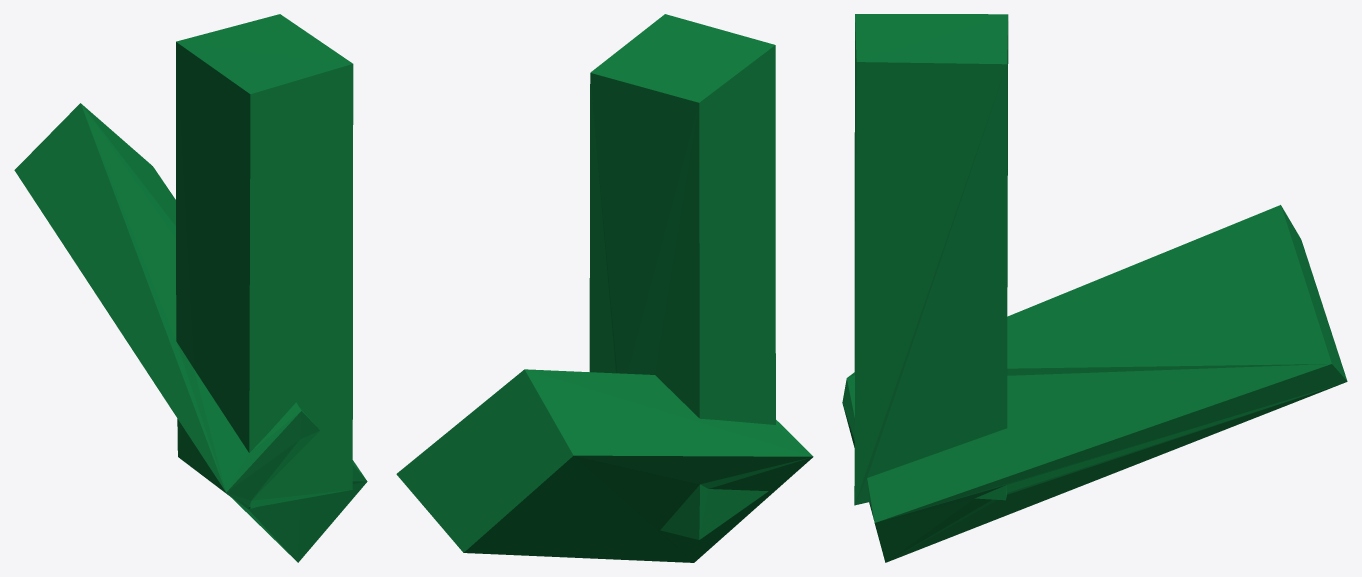
The picture shows the model from 3 angles, left to right: view 1: azimuth 30°, elevation 25°; view 2: azimuth 150°, elevation 25°; view 3: azimuth 270°, elevation 25°; orthographic projection. The views are drawn at different scales.
Visible parts, largest first — view 1: 223_Cube.916; view 2: 223_Cube.916; view 3: 223_Cube.916.
Part boxes in pixels (<box>): 223_Cube.916: <box>14,14,367,562</box>; 223_Cube.916: <box>396,14,813,562</box>; 223_Cube.916: <box>842,14,1347,562</box>.
Size of the model in its own units: 4.82 by 14.3 by 12.54.
